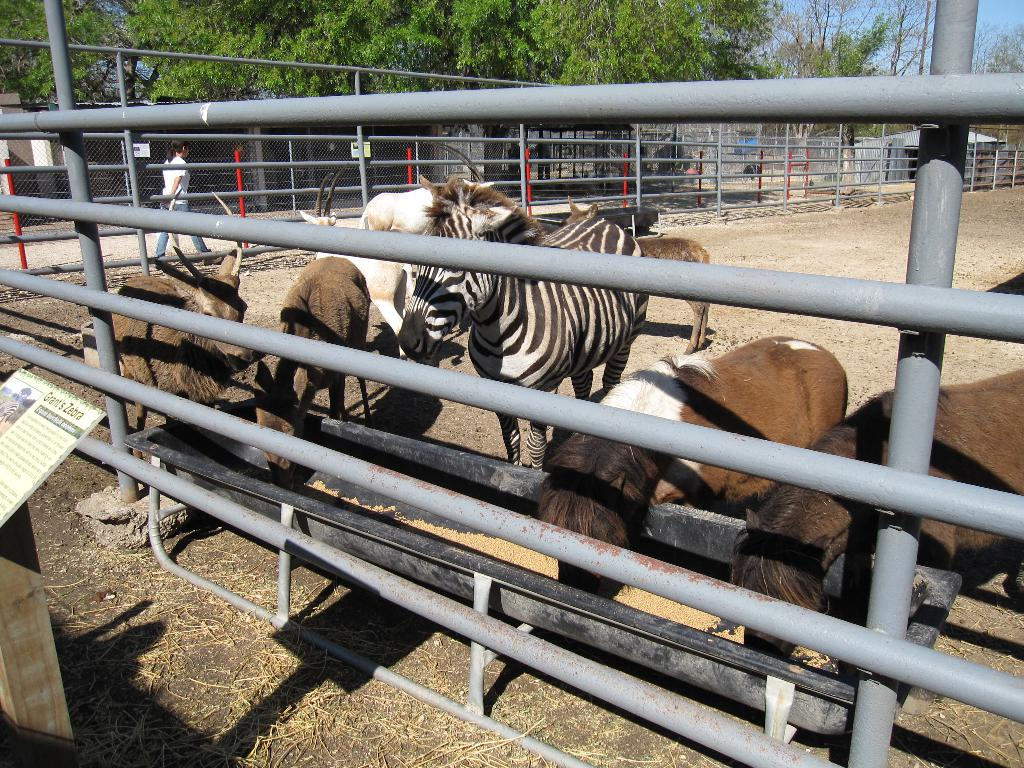Animal: (731, 376, 1022, 672), (542, 341, 846, 609), (382, 175, 645, 473)
